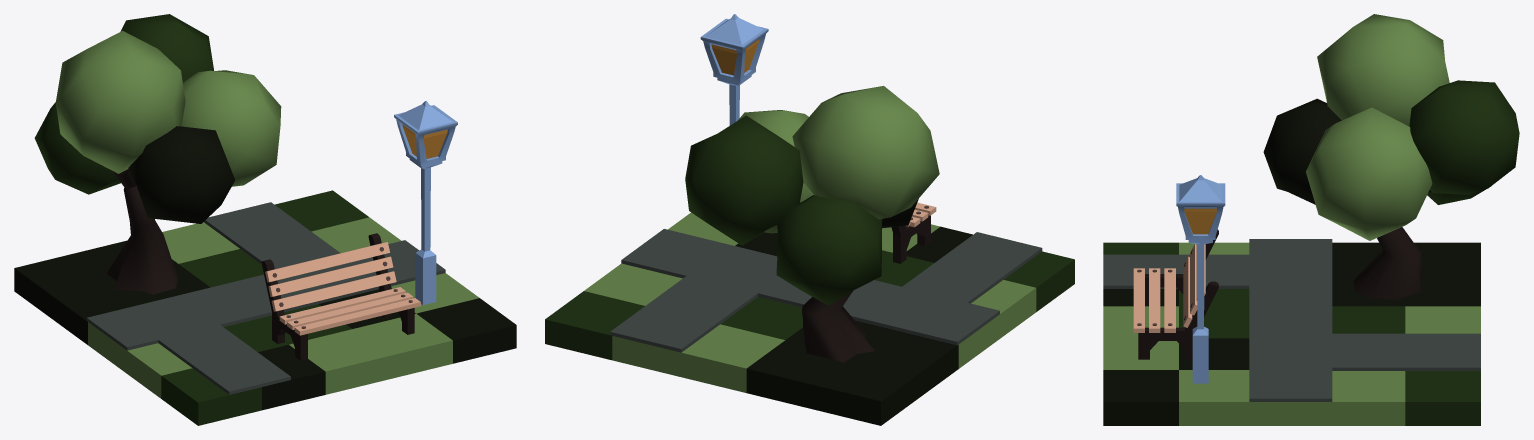
Rendered from 綠色公園.fbx.
3 renders of one model, left to right at view 1: azimuth 30°, elevation 25°; view 2: azimuth 150°, elevation 25°; view 3: azimuth 270°, elevation 25°, orthographic. The views are drawn at different scales.
Visible parts, largest first — view 1: tree, plane_up_park, plane_road, chair, light; view 2: tree, plane_up_park, plane_road, light, chair; view 3: tree, plane_up_park, plane_road, chair, light.
Boxes of the visible parts, x1,y1,x2,y2 form: tree: (34, 14, 281, 294); plane_up_park: (14, 190, 516, 425); plane_road: (86, 202, 445, 394); chair: (261, 233, 420, 360); light: (394, 101, 457, 305); tree: (685, 86, 939, 362); plane_up_park: (545, 212, 1074, 425); plane_road: (610, 229, 1042, 352); light: (700, 14, 768, 125); chair: (891, 202, 936, 263); tree: (1263, 14, 1519, 299); plane_up_park: (1103, 242, 1480, 425); plane_road: (1103, 239, 1480, 401); chair: (1133, 229, 1218, 359); light: (1176, 175, 1225, 383).
Bounding box in the file's own units: 100 × 81.04 × 110.
